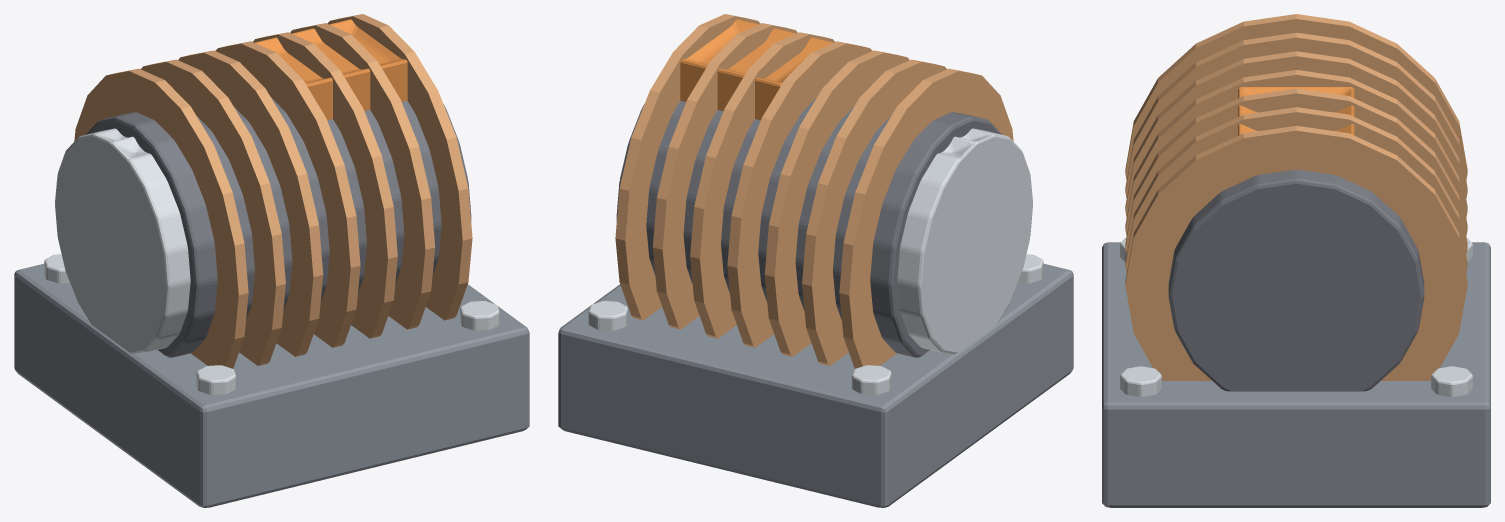
File: engine_electric.glb
3 renders of one model, left to right at view 1: azimuth 30°, elevation 25°; view 2: azimuth 150°, elevation 25°; view 3: azimuth 270°, elevation 25°, orthographic. The views are drawn at different scales.
Visible parts, largest first — view 1: engine_electric; view 2: engine_electric; view 3: engine_electric.
Boxes of the visible parts, left/top/right/bottom form: engine_electric: left=14, top=14, right=529, bottom=507; engine_electric: left=558, top=14, right=1073, bottom=507; engine_electric: left=1102, top=14, right=1490, bottom=507.
Bounding box in the file's own units: 1 × 1.01 × 1.
